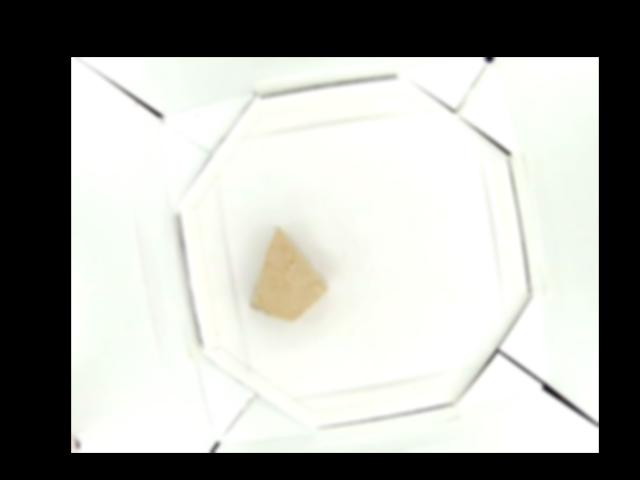China: (247, 228, 325, 320)
